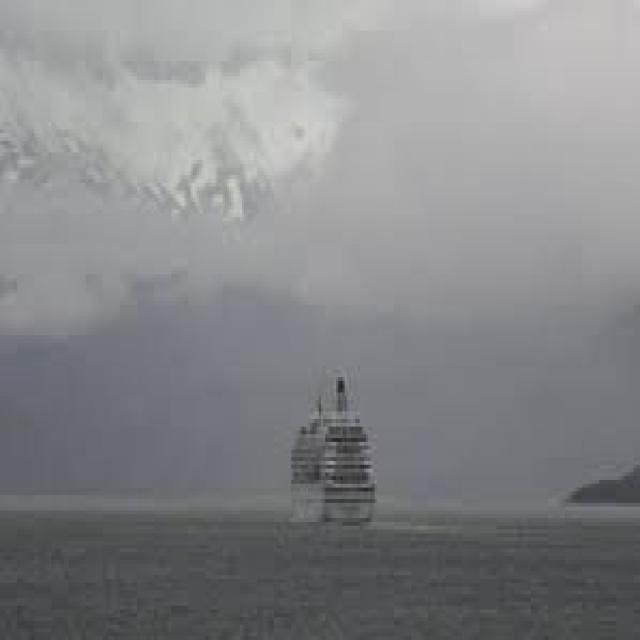passenger ship: (278, 370, 375, 524)
